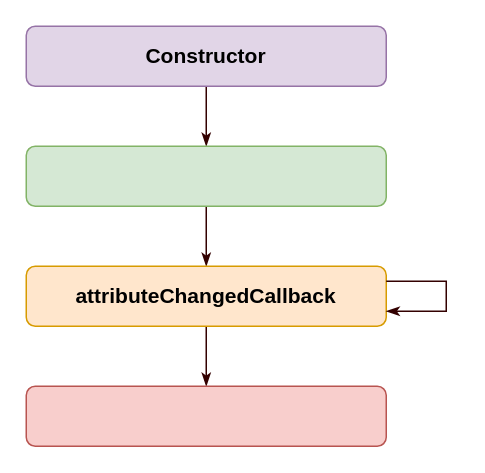
This 485x473 diagram has some shape labels left out. Each missing label, with the centre of its shape:
"connectedCallback" goes at (205,175).
"disconnectedCallaback" goes at (205,415).
